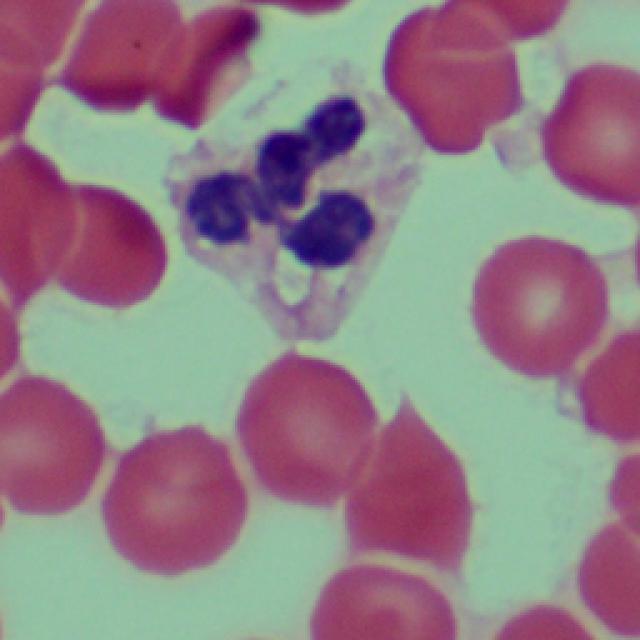RBC: (348, 391, 478, 579), (103, 429, 248, 576), (237, 354, 379, 503), (381, 6, 522, 156), (468, 234, 608, 375), (61, 0, 191, 115), (46, 181, 160, 308), (0, 376, 102, 515), (544, 63, 640, 206), (151, 6, 261, 126), (0, 148, 78, 304), (308, 565, 456, 640), (427, 0, 570, 56), (577, 517, 640, 639), (580, 331, 640, 443), (0, 34, 50, 138), (0, 0, 78, 63), (493, 606, 598, 640), (607, 456, 640, 518)
WBC: (167, 63, 429, 344)
